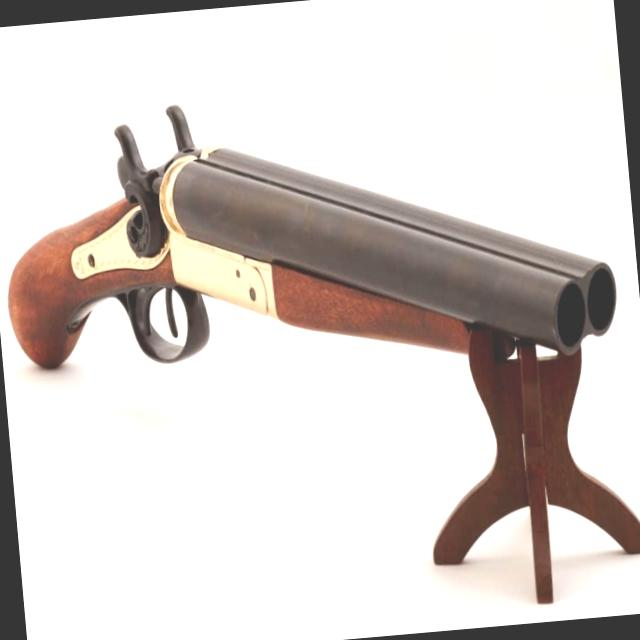shotgun: (0, 51, 630, 416)
